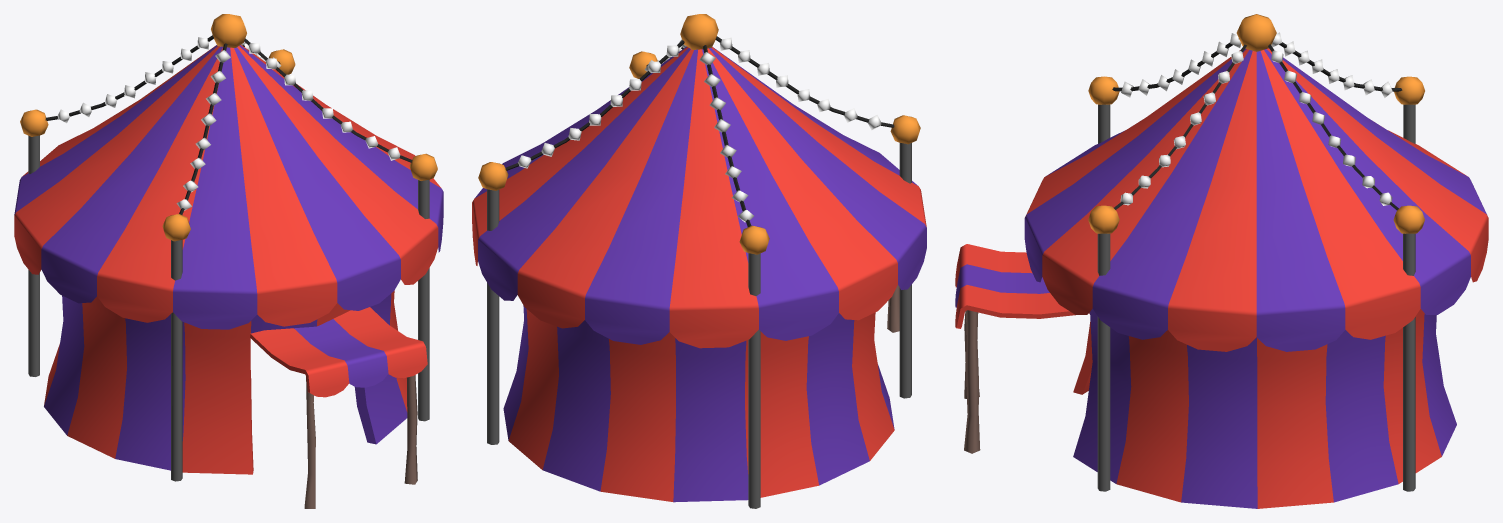
Rendered from tent_003.gltf.
The picture shows the model from 3 angles, left to right: view 1: azimuth 30°, elevation 25°; view 2: azimuth 150°, elevation 25°; view 3: azimuth 270°, elevation 25°; orthographic projection. The views are drawn at different scales.
Visible parts, largest first — view 1: tent_003; view 2: tent_003; view 3: tent_003.
Boxes of the visible parts, x1,y1,x2,y2 form: tent_003: (14, 14, 443, 508); tent_003: (472, 14, 926, 508); tent_003: (955, 14, 1488, 508).
Bounding box in the file's own units: 6.82 × 6.65 × 7.84.
2 materials, 1 textured.
